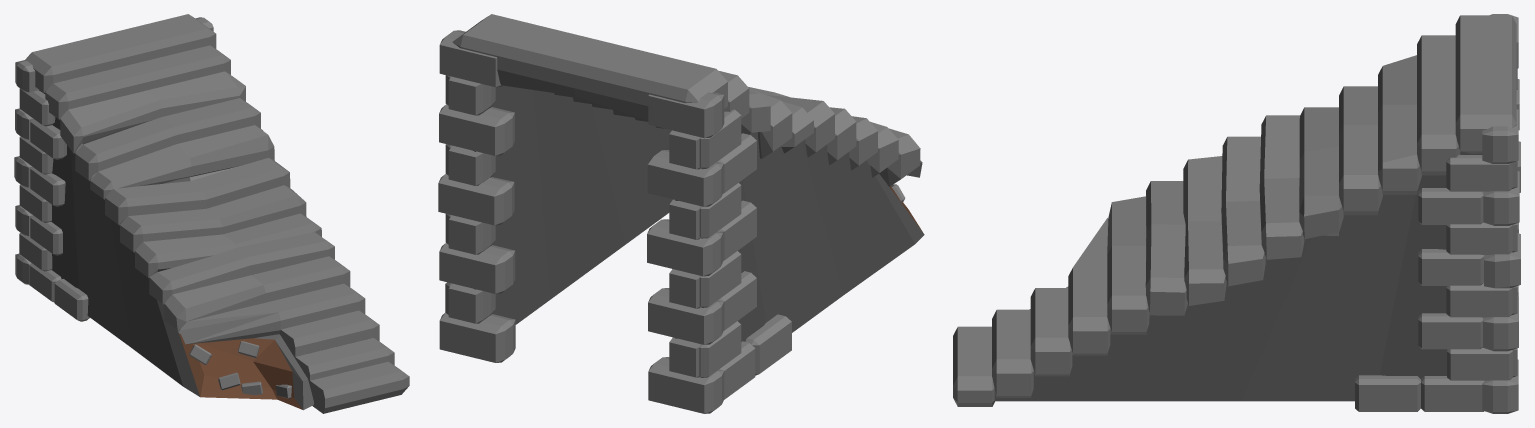
File: DungeonStairsSmallBroken.fbx
3 views of the same model, side by side, from view 1: azimuth 30°, elevation 25°; view 2: azimuth 150°, elevation 25°; view 3: azimuth 270°, elevation 25° (orthographic). The views are drawn at different scales.
Parts seen in each view (by area): view 1: DungeonStairsSmallBroken; view 2: DungeonStairsSmallBroken; view 3: DungeonStairsSmallBroken.
Boxes of the visible parts, x1,y1,x2,y2 form: DungeonStairsSmallBroken: (14, 14, 409, 413); DungeonStairsSmallBroken: (438, 14, 924, 413); DungeonStairsSmallBroken: (953, 14, 1520, 413).
Size of the model in its own units: 340 by 387 by 679.
1 material, 1 textured.
